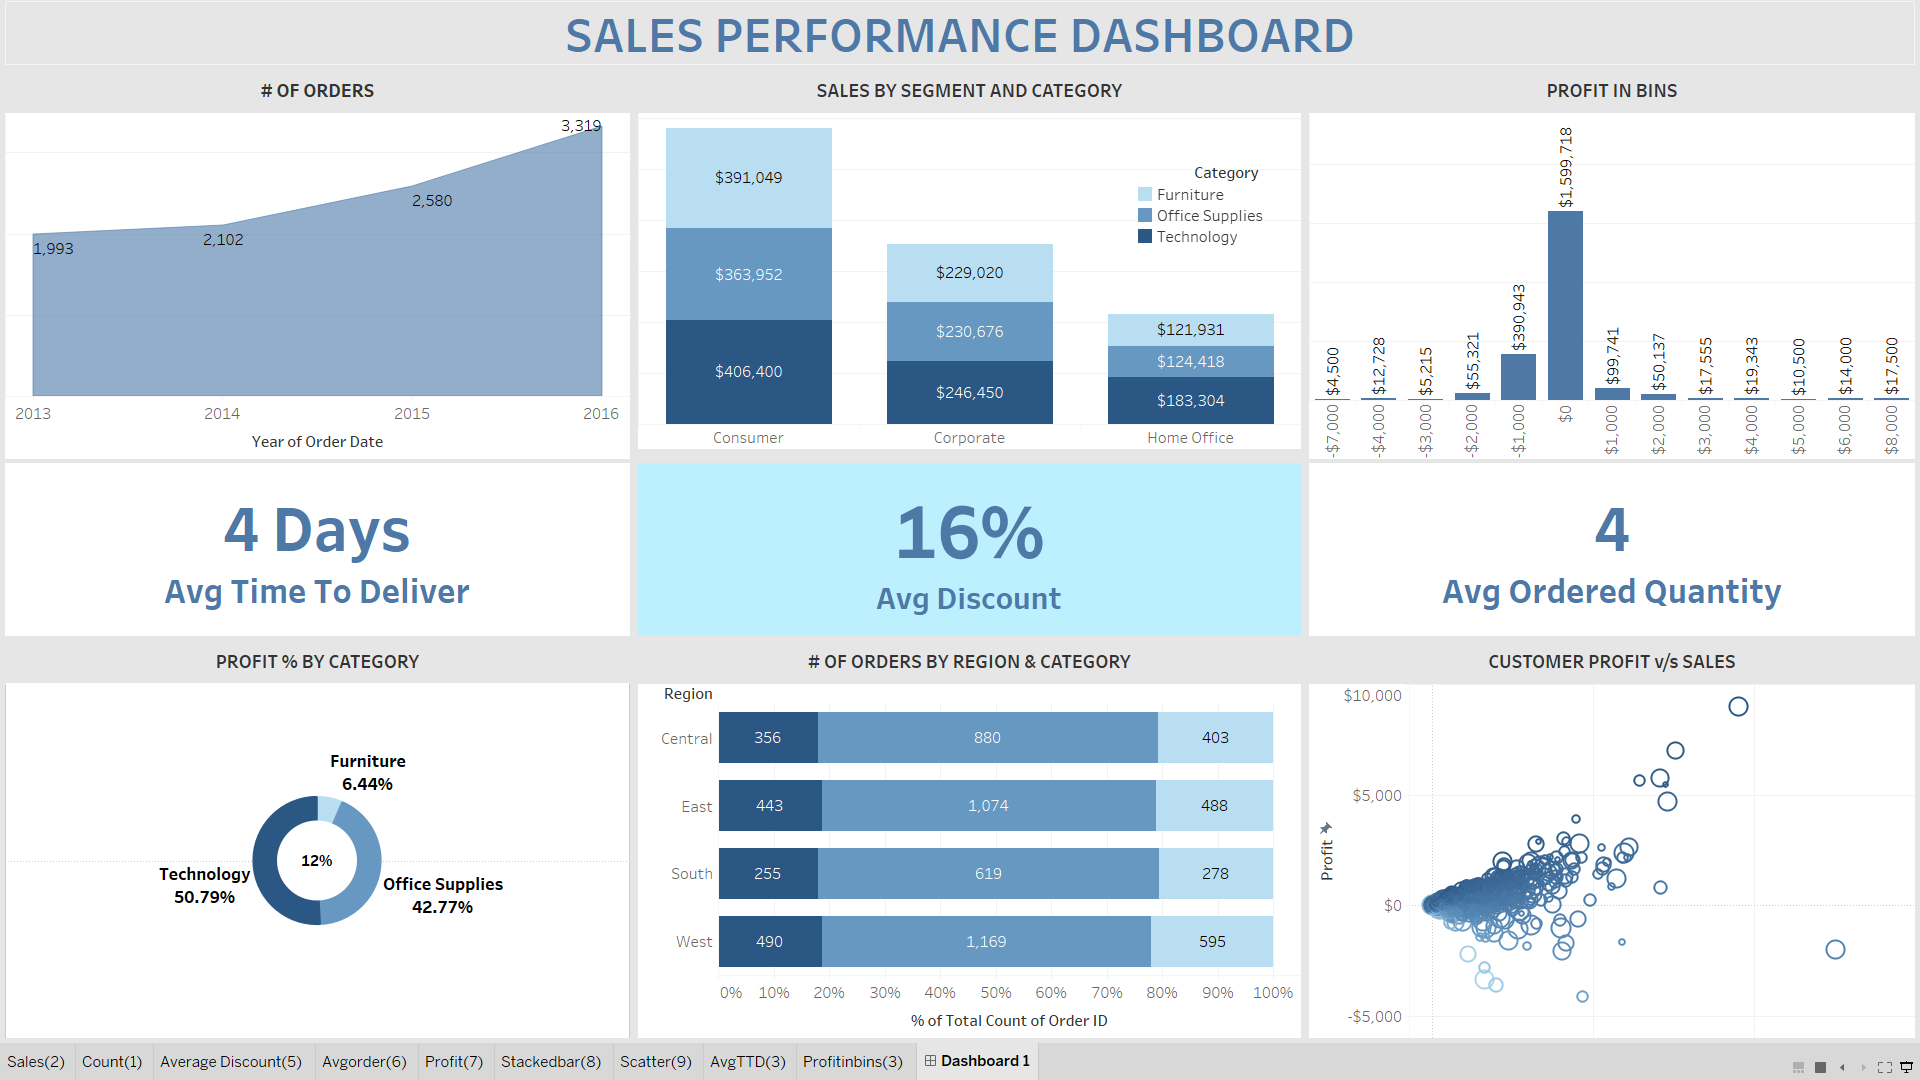

What the dashboard file says about the page in this screenshot:
{"tool":"tableau","page":{"name":"Dashboard 1","canvas":[1000,1000],"units":"permille","ordinal":0},"visuals":[{"type":"title","box":[0.6,1.2,998.8,103.9]},{"type":"worksheet","title":"Count(1)","mark":"Area","rows":["Orders_81D38E6CD9664B908FE81A8EA6E9476A"],"cols":["Order Date"],"box":[0.6,105,329.2,361.7]},{"type":"worksheet","title":"Sales(2)","mark":"Automatic","rows":["Sales"],"cols":["Segment"],"box":[329.9,105,349.5,361.8]},{"type":"worksheet","title":"Profitinbins(3)","mark":"Automatic","rows":["Sales"],"cols":["Profit (bin) 2"],"box":[679.4,105,320,361.7]},{"type":"legend","title":"Sales(2)","param":"[federated.0quw2mx14970xa15cj96d13ak9t4].[none:Category:nk]","box":[590.9,155.2,95.2,99.2]},{"type":"worksheet","title":"AvgTTD(3)","mark":"Automatic","box":[0.6,466.7,329.2,162.4]},{"type":"worksheet","title":"Avgorder(6)","mark":"Automatic","box":[679.4,466.7,320,162.4]},{"type":"worksheet","title":"Average Discount(5)","mark":"Automatic","box":[329.9,466.8,349.5,162.2]},{"type":"worksheet","title":"Profit(7)","mark":"Pie","rows":["Calculation_569423925091082244","Calculation_569423925093998601"],"box":[0.6,629.1,329.2,369.8]},{"type":"worksheet","title":"Stackedbar(8)","mark":"Bar","rows":["Region"],"box":[329.9,629.1,349.5,369.8]},{"type":"worksheet","title":"Scatter(9)","mark":"Automatic","rows":["Profit"],"cols":["Sales"],"box":[679.4,629.1,320,369.8]}]}

Visuals, with their boxes on the dashboard's canvas, which has no fixed pixel size, in thousandths of its width and height (x1, y1, x2, y2). These are canvas units, not pixel positions in the 1920x1080 screenshot, which may show the page scaled, cropped or inside an application window:
title: bbox=(1, 1, 999, 105)
"Count(1)" worksheet (Area marks): bbox=(1, 105, 330, 467)
"Sales(2)" worksheet: bbox=(330, 105, 679, 467)
"Profitinbins(3)" worksheet: bbox=(679, 105, 999, 467)
"Sales(2)" legend: bbox=(591, 155, 686, 254)
"AvgTTD(3)" worksheet: bbox=(1, 467, 330, 629)
"Avgorder(6)" worksheet: bbox=(679, 467, 999, 629)
"Average Discount(5)" worksheet: bbox=(330, 467, 679, 629)
"Profit(7)" worksheet (Pie marks): bbox=(1, 629, 330, 999)
"Stackedbar(8)" worksheet (Bar marks): bbox=(330, 629, 679, 999)
"Scatter(9)" worksheet: bbox=(679, 629, 999, 999)
